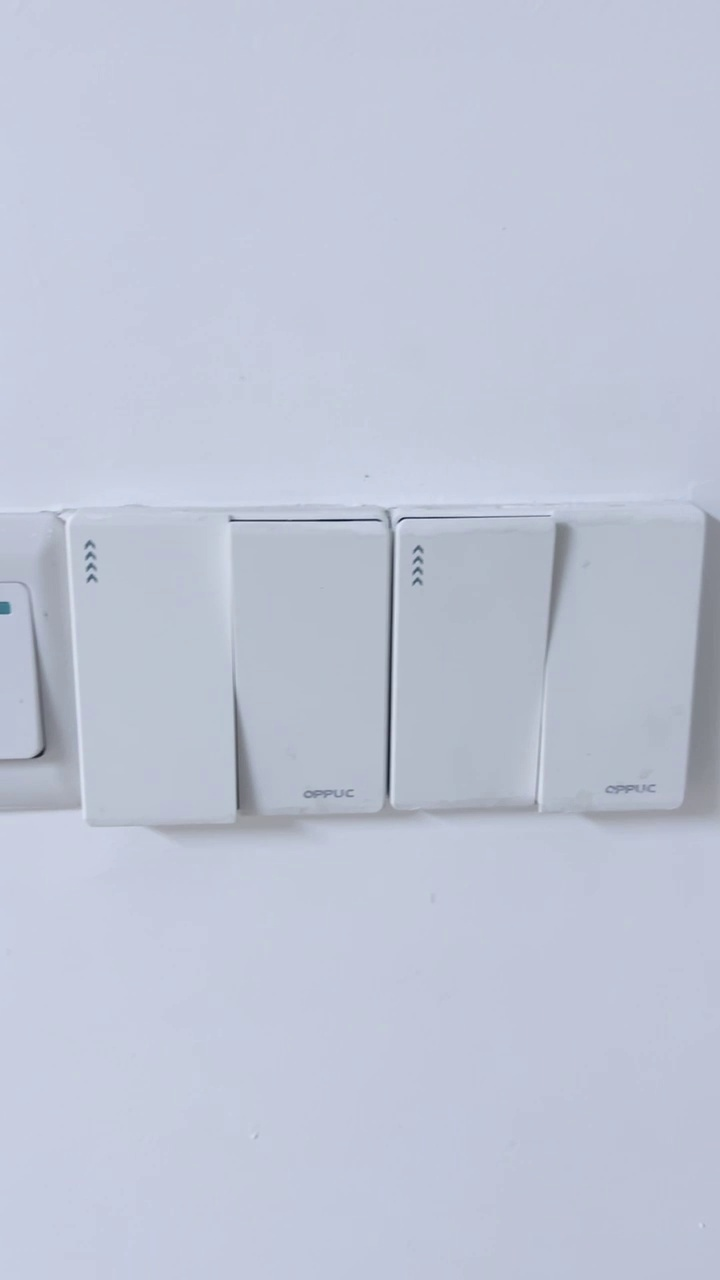button1: (74, 512, 233, 826), (543, 514, 702, 805), (234, 524, 386, 814), (398, 521, 544, 807)
